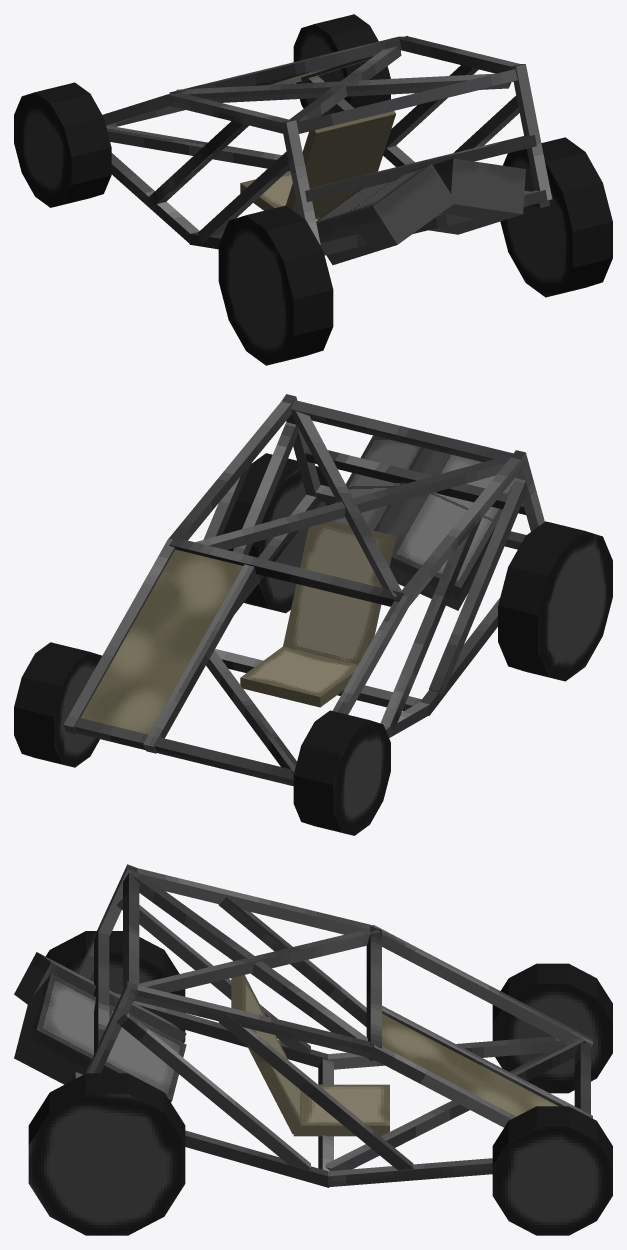
The model's file is buggy.gltf.
3 renders of one model, top to bottom at view 1: azimuth 30°, elevation 25°; view 2: azimuth 150°, elevation 25°; view 3: azimuth 270°, elevation 25°, orthographic. The views are drawn at different scales.
Parts seen in each view (by area): view 1: mesh (×23), cylinder (×4); view 2: mesh (×27), cylinder (×4); view 3: mesh (×28), cylinder (×4).
Part boxes in pixels (left/top/right/bottom): mesh (×23): left=102, top=36, right=552, bottom=264; cylinder (×4): left=14, top=14, right=612, bottom=365; mesh (×27): left=63, top=394, right=544, bottom=786; cylinder (×4): left=14, top=453, right=612, bottom=835; mesh (×28): left=14, top=864, right=592, bottom=1187; cylinder (×4): left=28, top=931, right=612, bottom=1235.
Bounding box in the file's own units: 4 × 2.62 × 6.22.
Materials: 2 (2 with a texture image).
